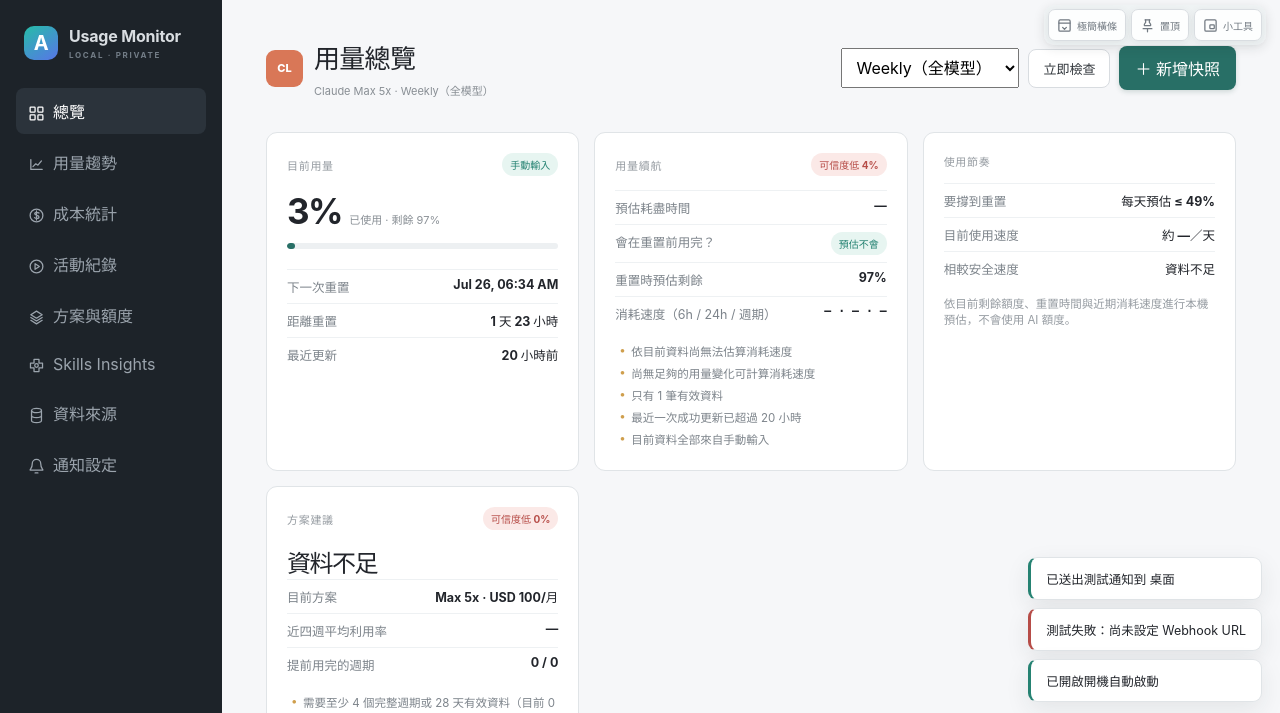
History › shows reset events and failed captures distinctly
Click the button "用量趨勢". click: (111, 162)
box: 16,139 -> 206,185
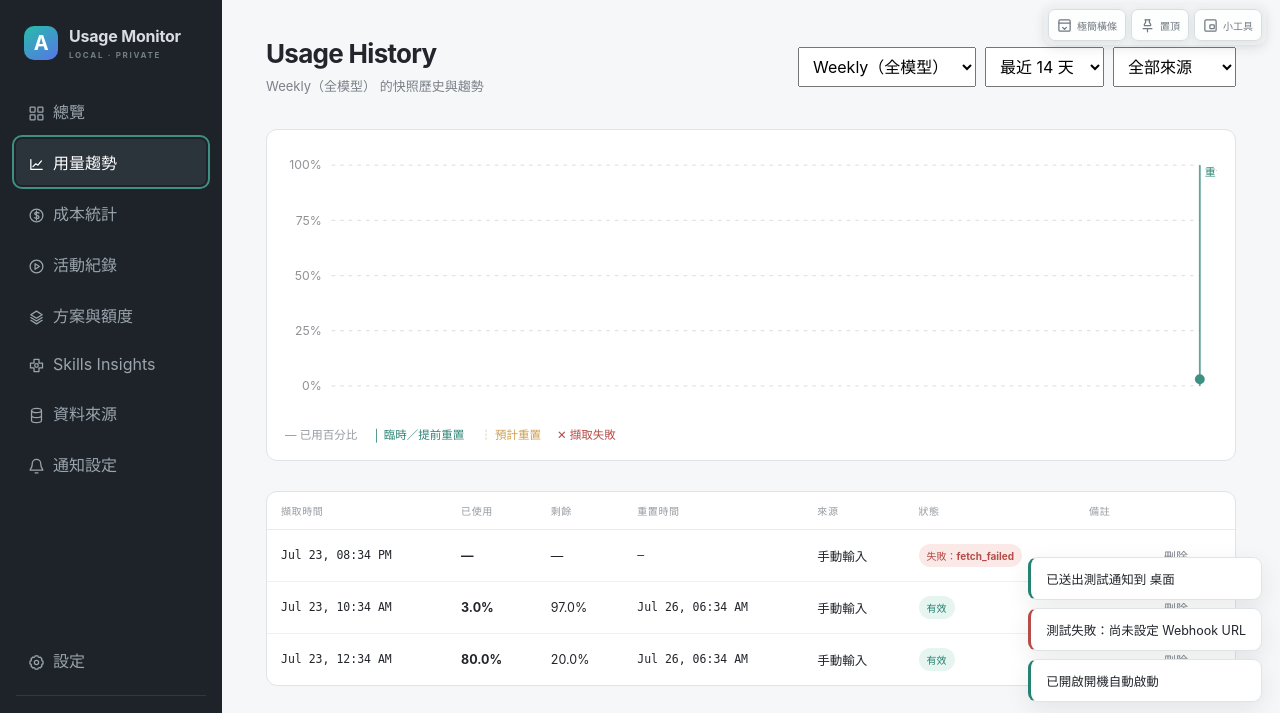
Expected: the text "有效" in the row of "Jul 23, 10:34 AM" is shown, 926,602 -> 946,614
Expected: the text "失敗：fetch_failed" is shown, 918,544 -> 1022,567
Expected: the picture named "用量趨勢圖" is shown, 285,148 -> 1217,418
